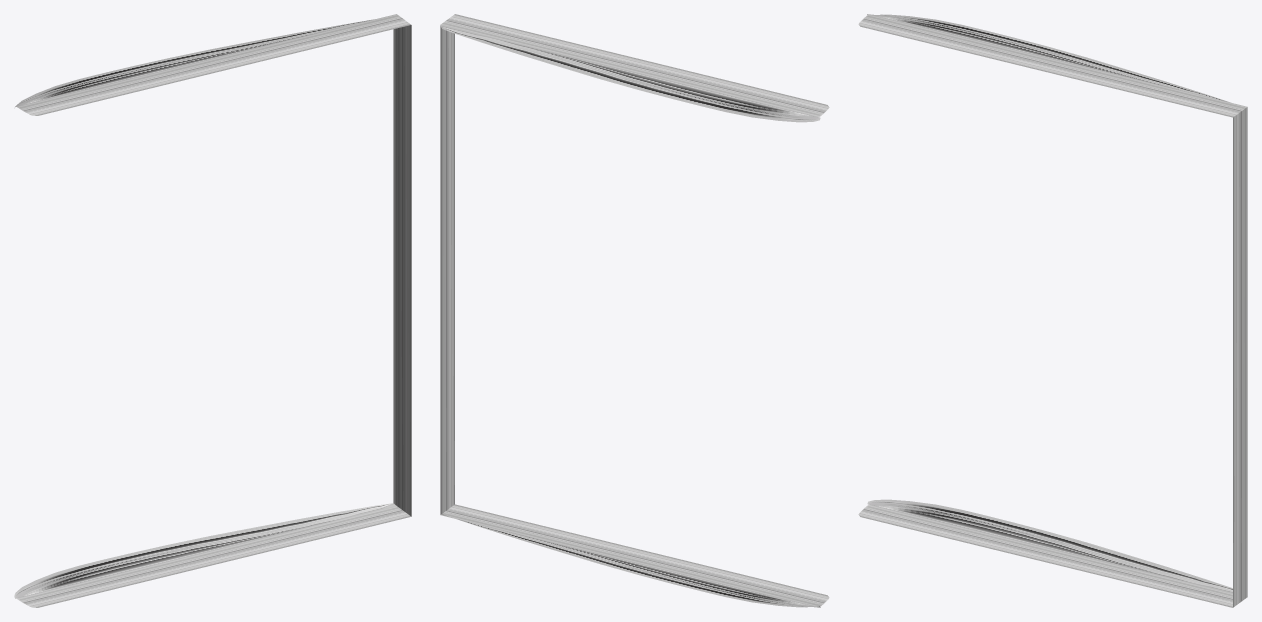
The model's file is MeshBookFront_2_1_GeomSubset_1.obj.
3 renders of one model, left to right at view 1: azimuth 30°, elevation 25°; view 2: azimuth 150°, elevation 25°; view 3: azimuth 330°, elevation 25°, orthographic.
Parts seen in each view (by area): view 1: MeshBookFront_2_1_GeomSubset_1; view 2: MeshBookFront_2_1_GeomSubset_1; view 3: MeshBookFront_2_1_GeomSubset_1.
Part boxes in pixels (<box>): MeshBookFront_2_1_GeomSubset_1: <box>14,14,411,607</box>; MeshBookFront_2_1_GeomSubset_1: <box>440,14,829,607</box>; MeshBookFront_2_1_GeomSubset_1: <box>858,14,1247,607</box>.
Bounding box in the file's own units: 0.2175 × 0.2679 × 0.03.
